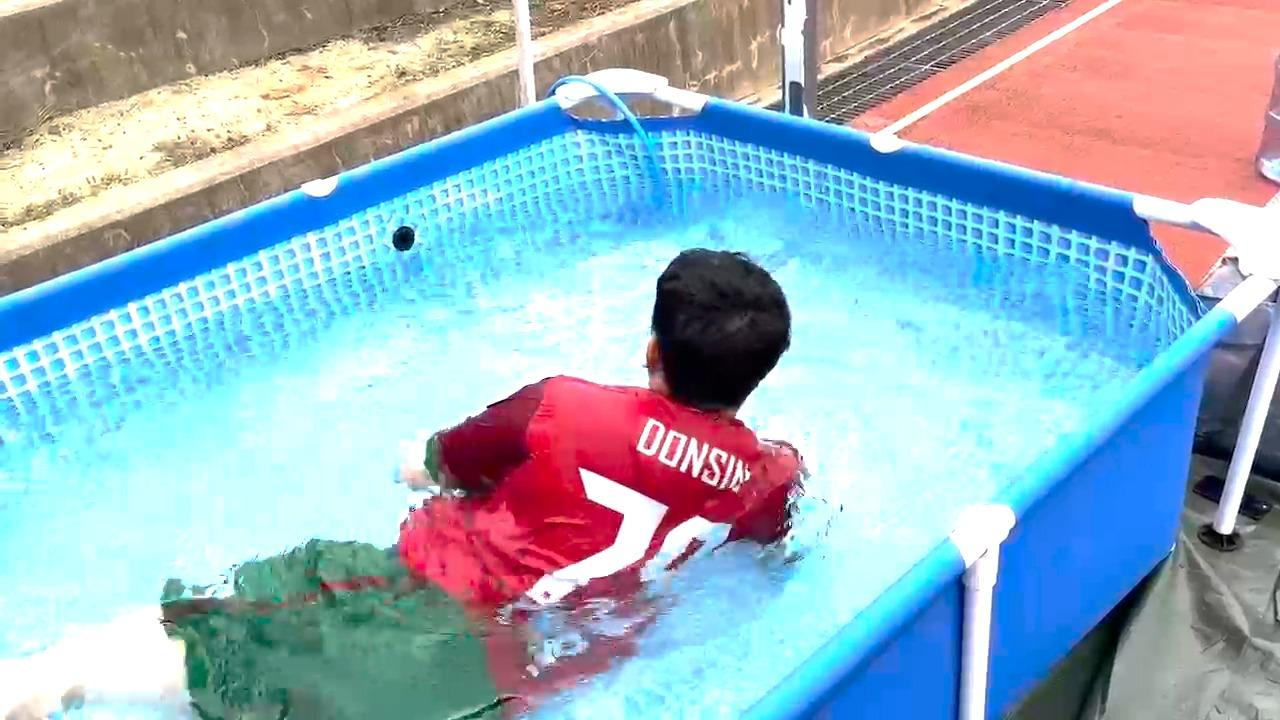Swimming: (136, 206, 925, 720)
